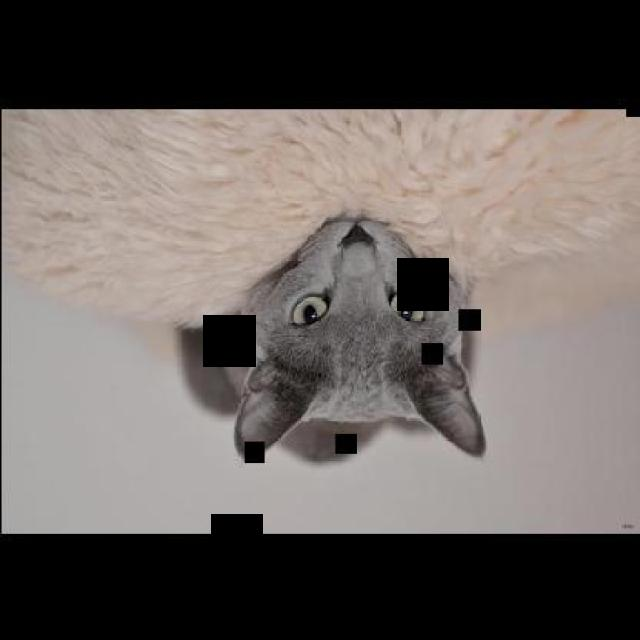unauthorized: (0, 106, 638, 461)
